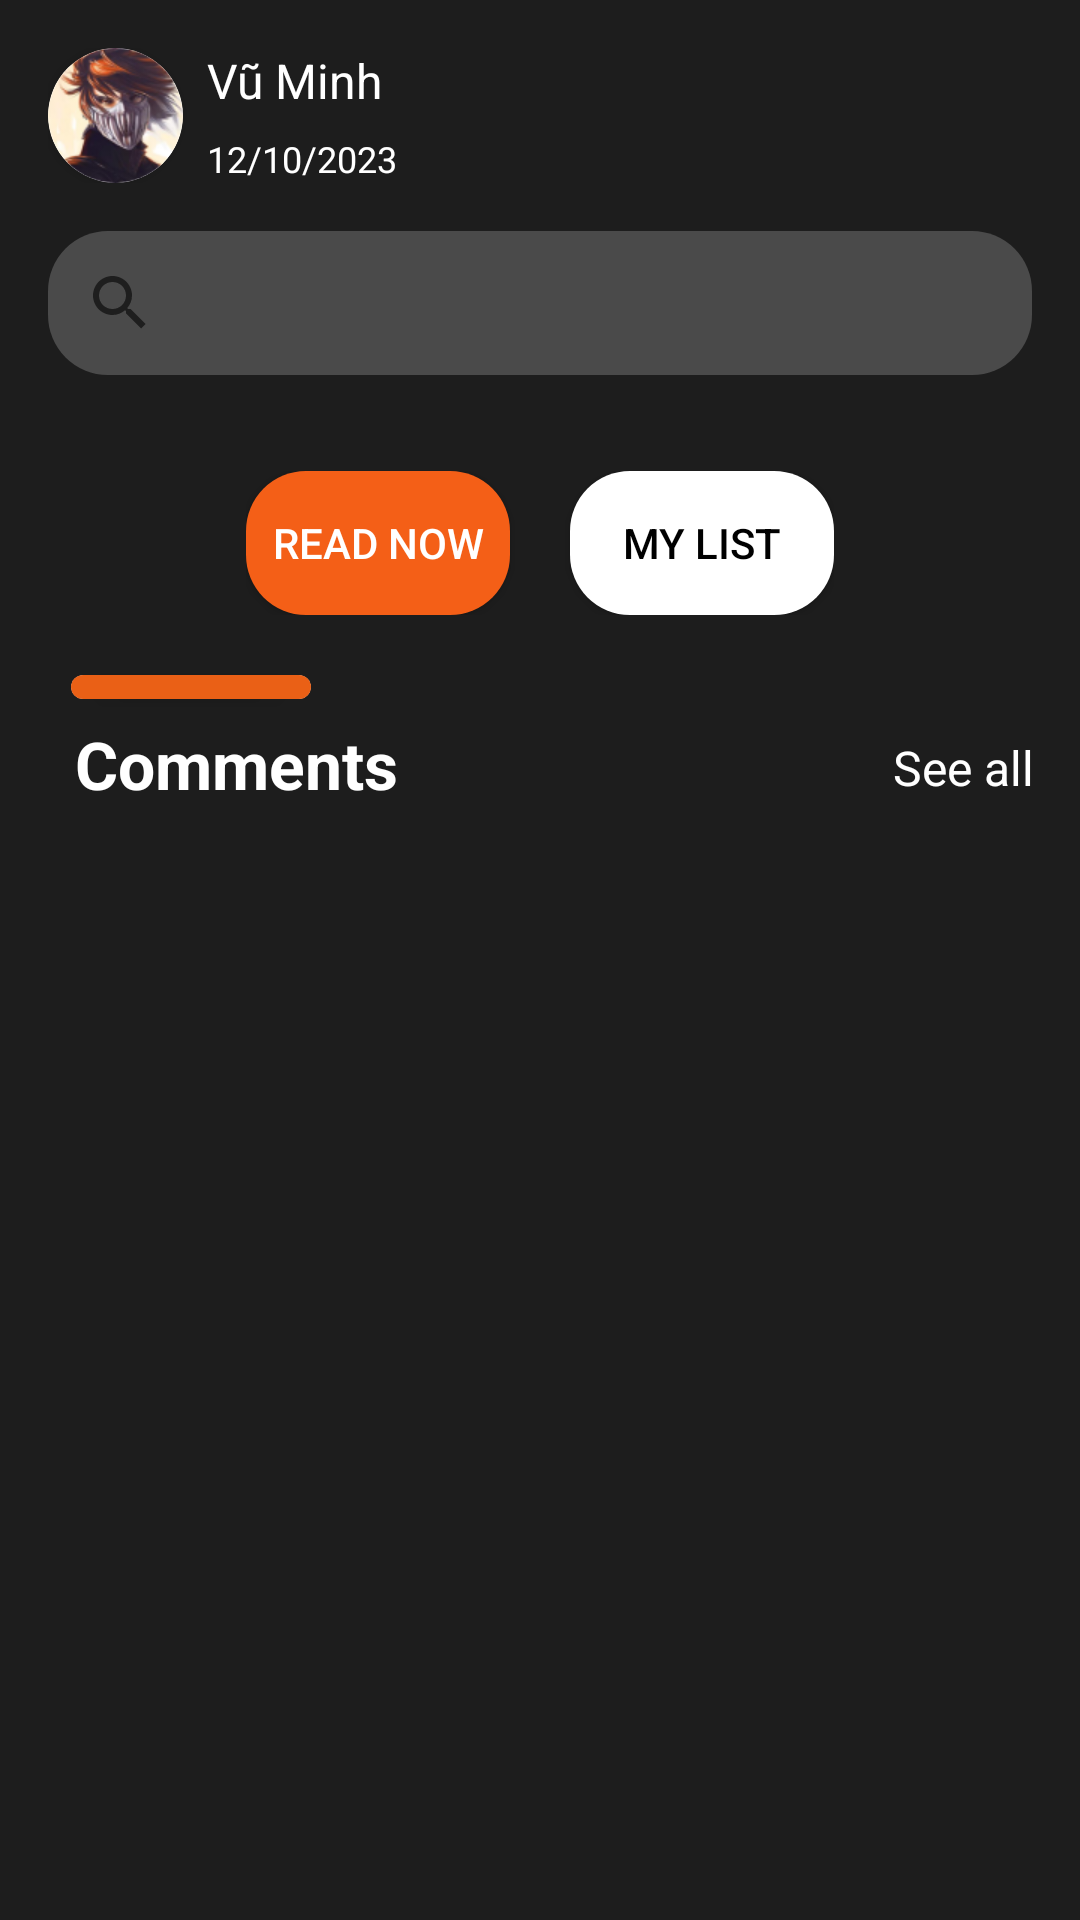

Icon bounding boxes for this 1080 x 1920 phone screenshot, format [x1,y1,x2,y2]:
avata: [48,48,183,183]
